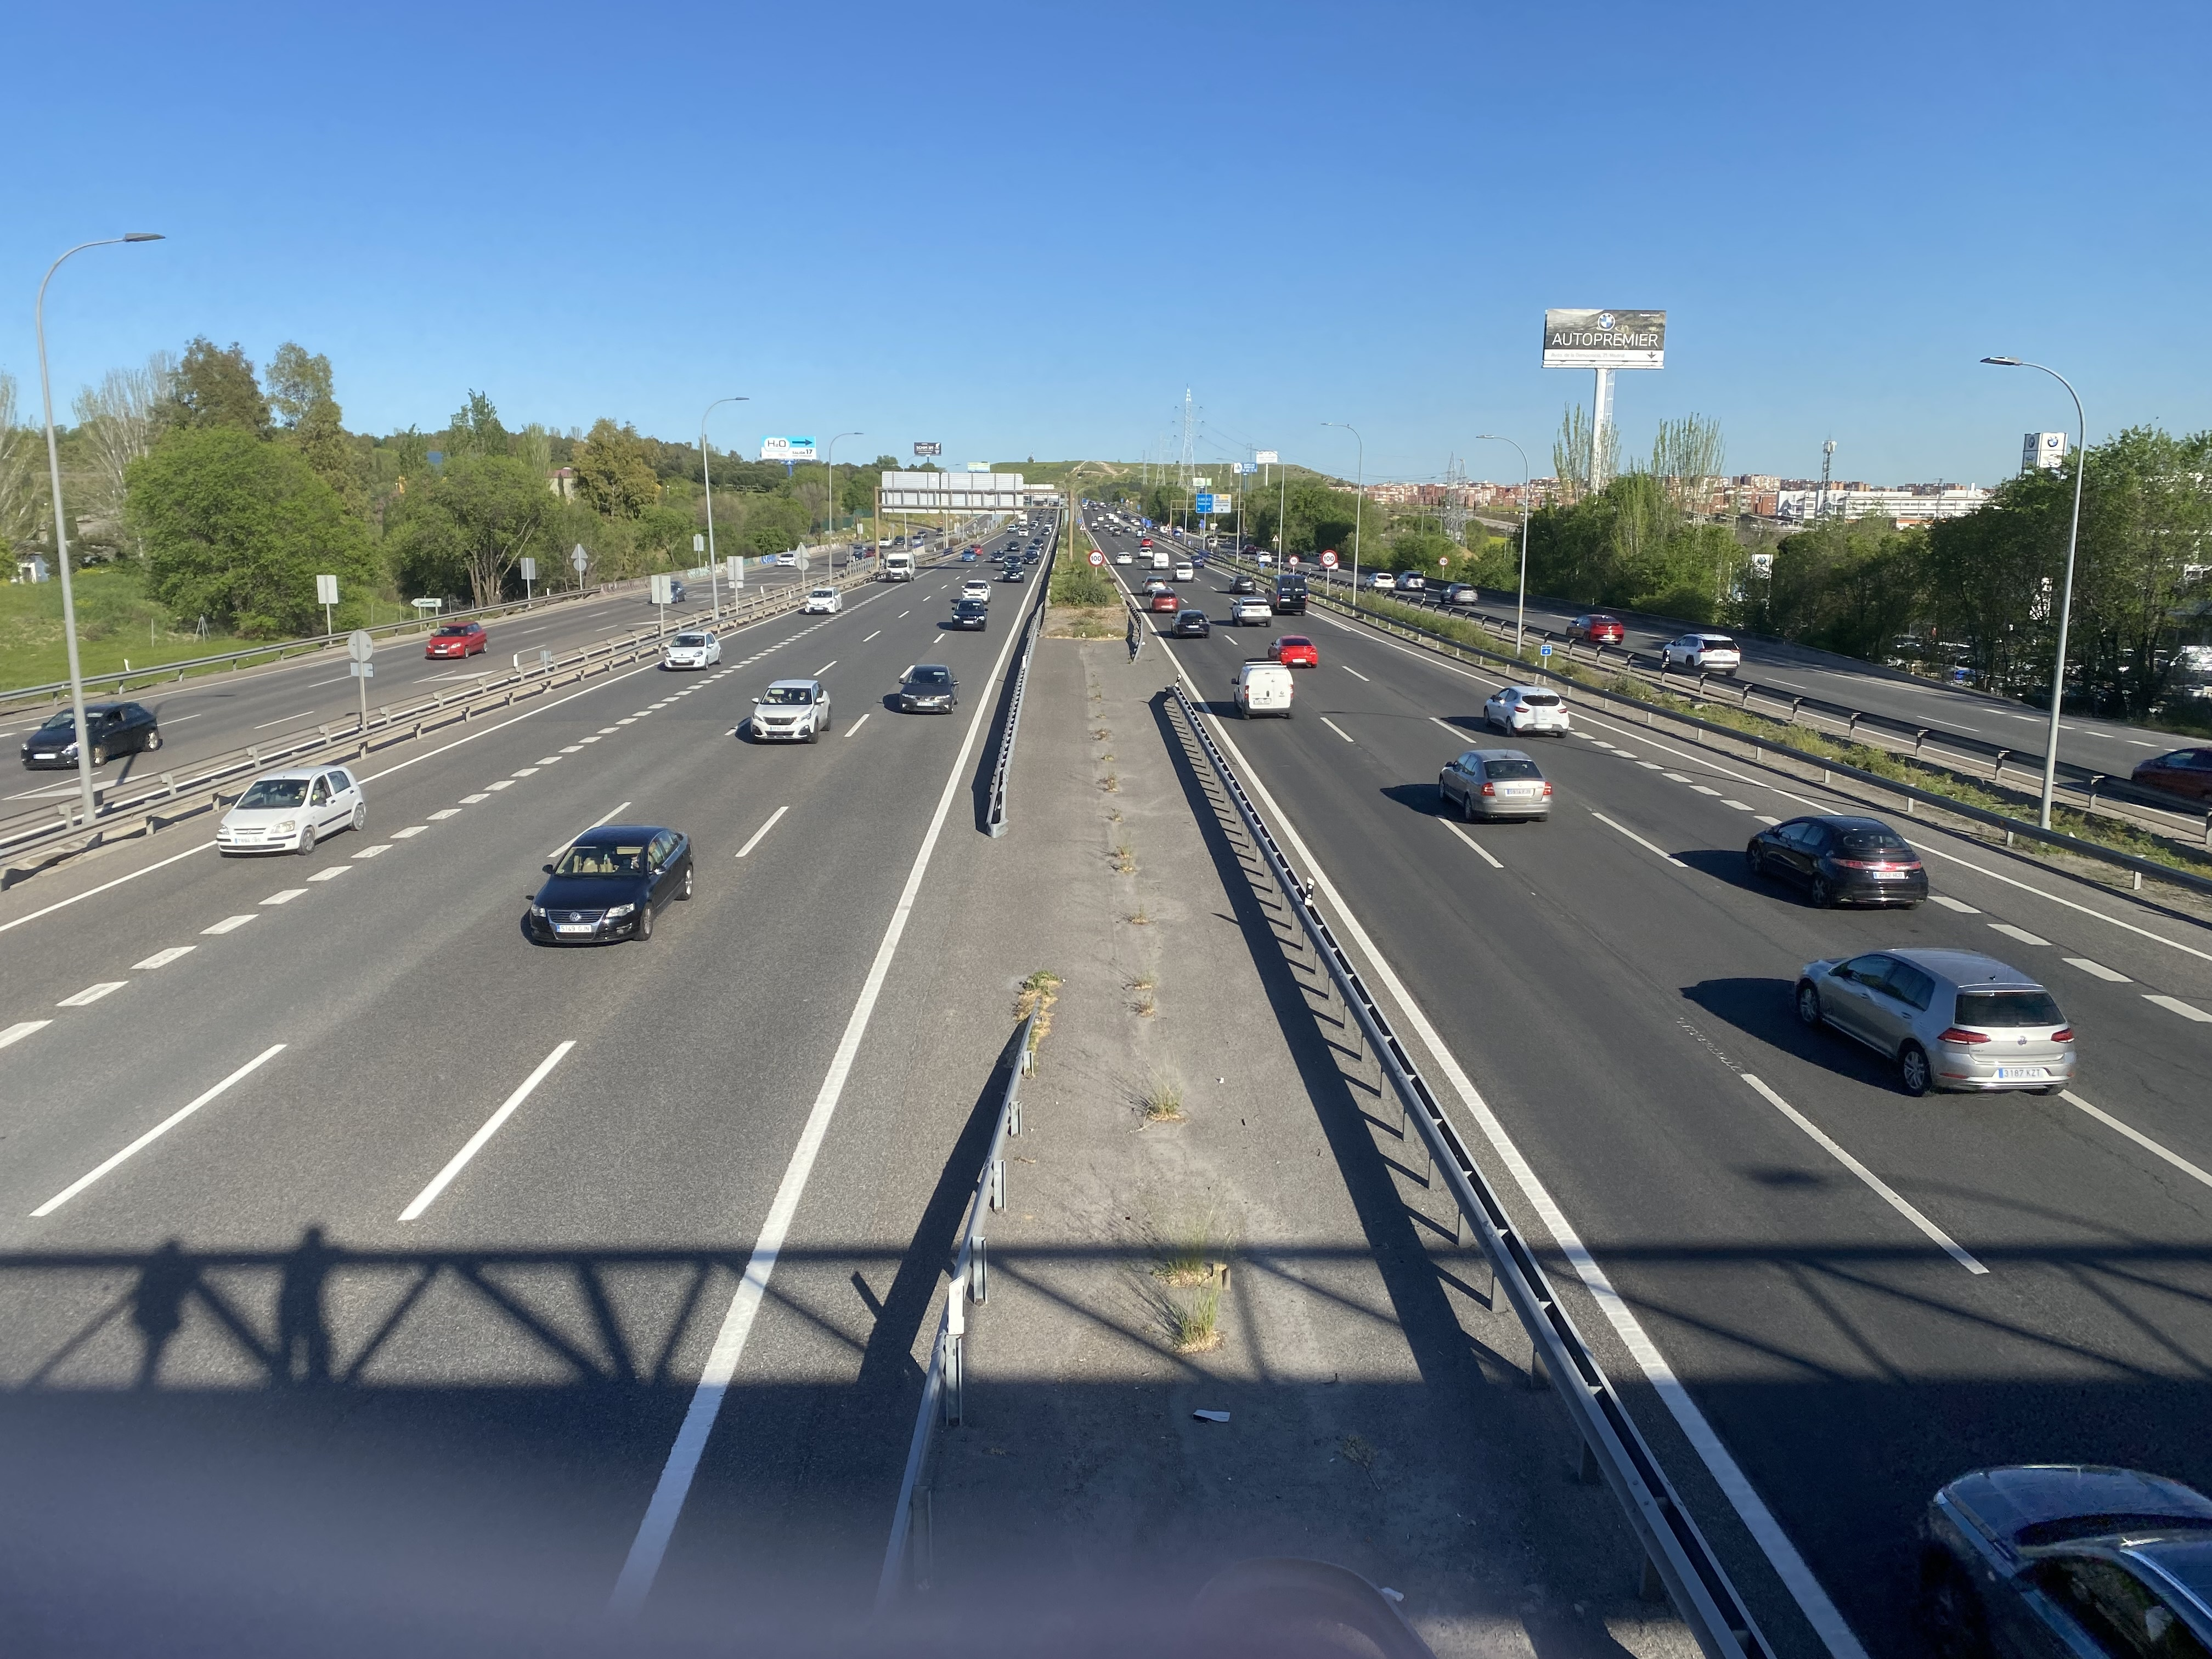cars: (1921, 1465, 2211, 1658), (1794, 949, 2076, 1092), (522, 825, 693, 944), (1746, 814, 1928, 906), (216, 765, 365, 855), (1438, 749, 1551, 820), (749, 678, 831, 742), (2131, 747, 2211, 803), (1483, 685, 1570, 736), (1233, 660, 1294, 716), (1660, 632, 1740, 674), (899, 664, 956, 712), (662, 629, 721, 670), (425, 620, 487, 659), (1565, 614, 1624, 645), (1268, 635, 1318, 667), (949, 597, 987, 629), (1231, 595, 1272, 625), (803, 585, 842, 614), (880, 551, 916, 582), (1171, 610, 1210, 637), (1147, 584, 1180, 612), (1442, 583, 1479, 606), (1272, 591, 1306, 614), (1419, 583, 1450, 606), (962, 578, 990, 603), (1229, 574, 1261, 594), (1396, 571, 1425, 593), (1948, 665, 1976, 686), (1370, 572, 1395, 592), (1000, 563, 1025, 582), (1172, 562, 1194, 581), (1151, 550, 1170, 569), (961, 545, 979, 563), (1256, 550, 1273, 566), (1115, 552, 1133, 565)
